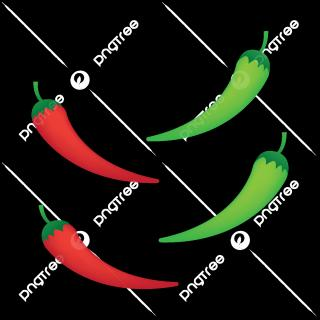Cabai Hijau: (147, 20, 280, 151)
